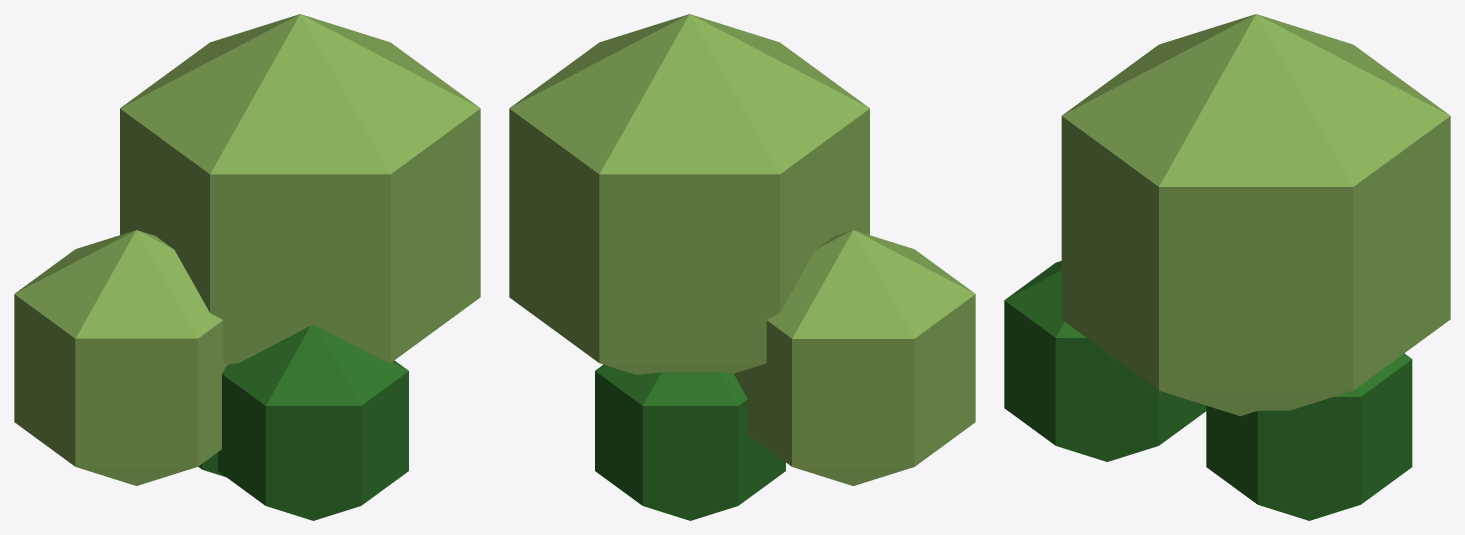
Rendered from Itr_Obj_Flowerpot_Tree_01.FBX.
The picture shows the model from 3 angles, left to right: view 1: azimuth 30°, elevation 25°; view 2: azimuth 150°, elevation 25°; view 3: azimuth 270°, elevation 25°; orthographic projection. The views are drawn at different scales.
Parts seen in each view (by area): view 1: Itr_Obj_Flowerpot_Tree_01; view 2: Itr_Obj_Flowerpot_Tree_01; view 3: Itr_Obj_Flowerpot_Tree_01.
Boxes of the visible parts, x1,y1,x2,y2 form: Itr_Obj_Flowerpot_Tree_01: (14,14,480,520); Itr_Obj_Flowerpot_Tree_01: (509,14,975,520); Itr_Obj_Flowerpot_Tree_01: (1004,14,1450,520).
Bounding box in the file's own units: 30.48 × 35.96 × 27.96.
